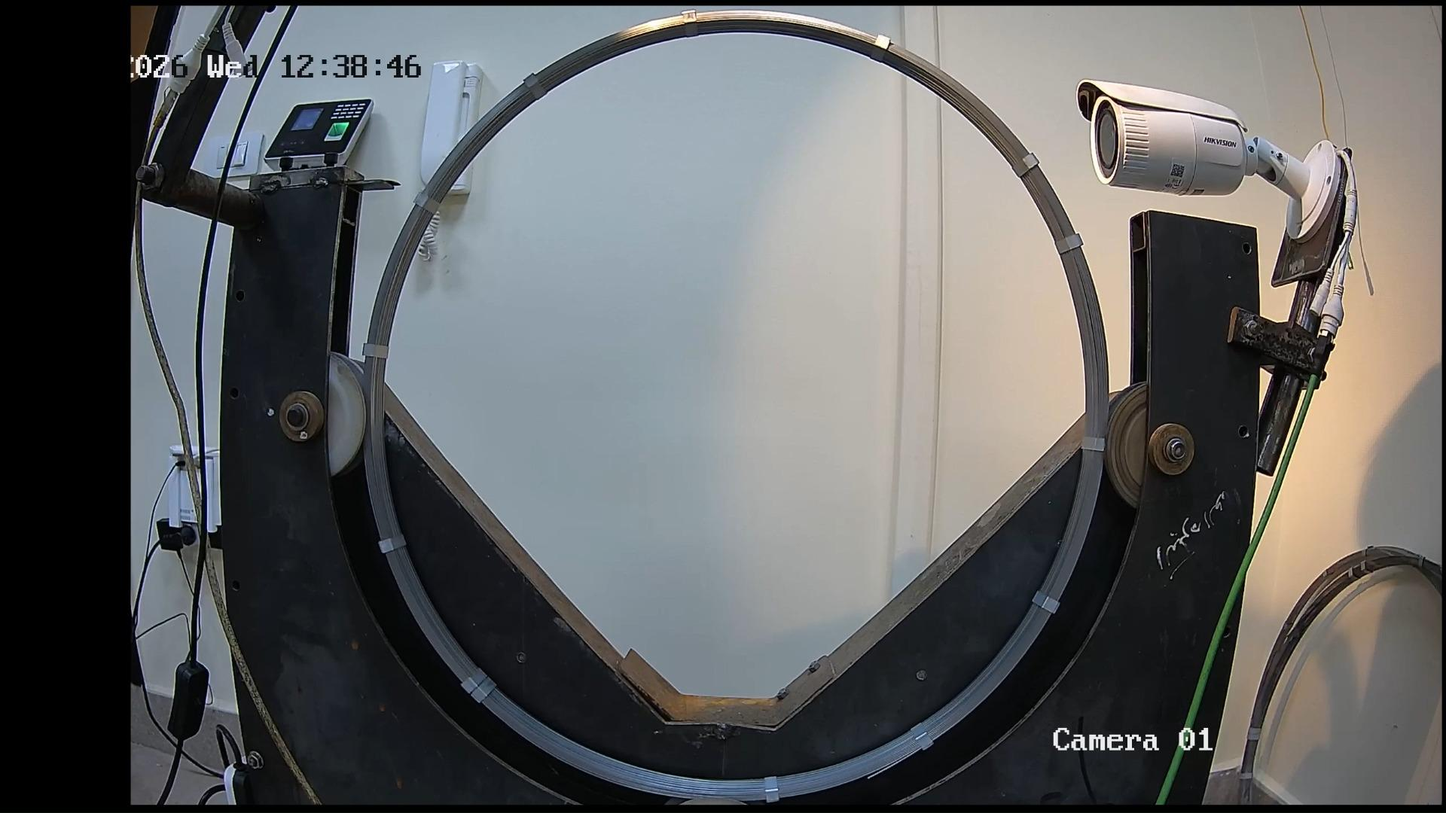Clamp: (866, 35, 890, 61), (1013, 153, 1038, 177), (461, 670, 486, 694), (1033, 591, 1059, 614), (415, 190, 439, 213), (472, 679, 496, 702), (1056, 233, 1082, 254), (523, 75, 545, 99), (911, 723, 931, 749), (379, 537, 404, 553), (764, 776, 779, 801), (1081, 436, 1105, 451), (682, 10, 696, 35), (364, 343, 387, 356)
